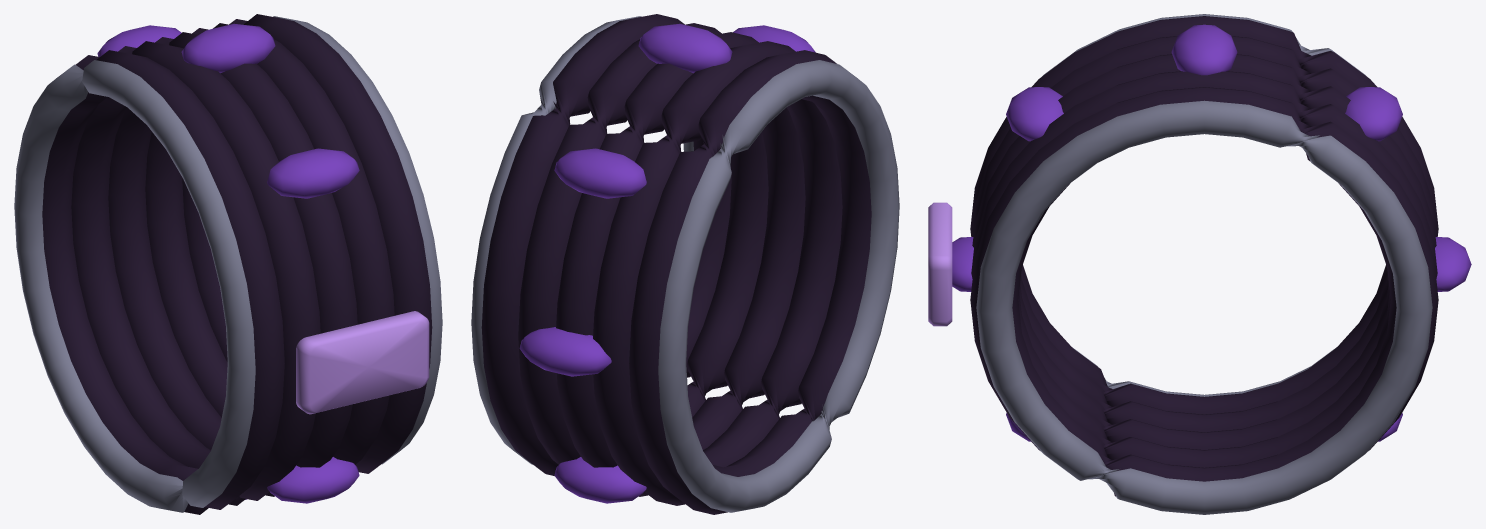
The model's file is noir_cuff.glb.
3 renders of one model, left to right at view 1: azimuth 30°, elevation 25°; view 2: azimuth 150°, elevation 25°; view 3: azimuth 270°, elevation 25°, orthographic.
Parts seen in each view (by area): view 1: noir_cuff_dark, noir_cuff_metal, noir_cuff_accent, noir_cuff_gem; view 2: noir_cuff_dark, noir_cuff_metal, noir_cuff_accent; view 3: noir_cuff_dark, noir_cuff_metal, noir_cuff_accent, noir_cuff_gem.
Boxes of the visible parts, box(x1,y1,x2,y2) form: noir_cuff_dark: box(42, 14, 432, 514); noir_cuff_metal: box(14, 16, 442, 512); noir_cuff_accent: box(97, 23, 359, 503); noir_cuff_gem: box(296, 311, 429, 414); noir_cuff_dark: box(481, 14, 871, 514); noir_cuff_metal: box(471, 16, 899, 512); noir_cuff_accent: box(519, 23, 815, 503); noir_cuff_dark: box(970, 16, 1438, 496); noir_cuff_metal: box(976, 14, 1432, 514); noir_cuff_accent: box(952, 24, 1471, 441); noir_cuff_gem: box(928, 202, 952, 326).
Bounding box in the file's own units: 0.04 × 0.085 × 0.0905.
